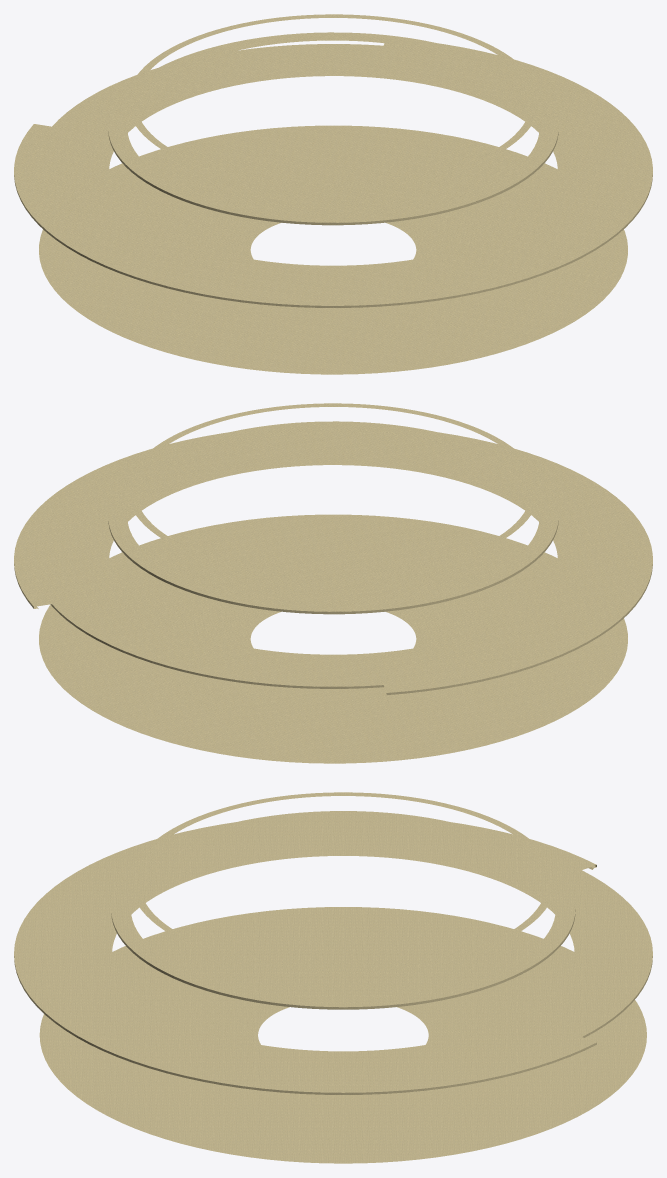
The model's file is Floors.fbx.
The picture shows the model from 3 angles, top to bottom: view 1: azimuth 30°, elevation 25°; view 2: azimuth 150°, elevation 25°; view 3: azimuth 270°, elevation 25°; orthographic projection. The views are drawn at different scales.
Parts seen in each view (by area): view 1: Floors; view 2: Floors; view 3: Floors.
Boxes of the visible parts, left/top/right/bottom form: Floors: left=14, top=14, right=652, bottom=374; Floors: left=14, top=403, right=652, bottom=763; Floors: left=14, top=792, right=652, bottom=1163.
Size of the model in its own units: 9519 by 2441 by 9234.
